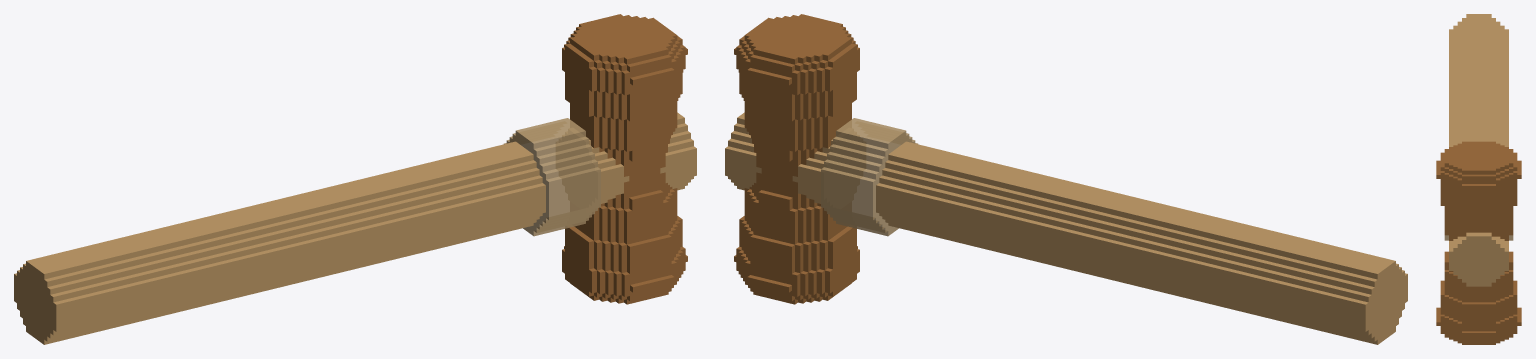
Rendered from hammer_bronze.glb.
3 views of the same model, side by side, from view 1: azimuth 30°, elevation 25°; view 2: azimuth 150°, elevation 25°; view 3: azimuth 270°, elevation 25° (orthographic). The views are drawn at different scales.
Visible parts, largest first — view 1: hammer_bronze:compound; view 2: hammer_bronze:compound; view 3: hammer_bronze:compound.
Boxes of the visible parts, bbox=[...] form: hammer_bronze:compound: bbox=[14, 14, 696, 344]; hammer_bronze:compound: bbox=[725, 14, 1407, 344]; hammer_bronze:compound: bbox=[1436, 14, 1521, 344].
Size of the model in its own units: 0.246 by 0.09 by 0.04.
